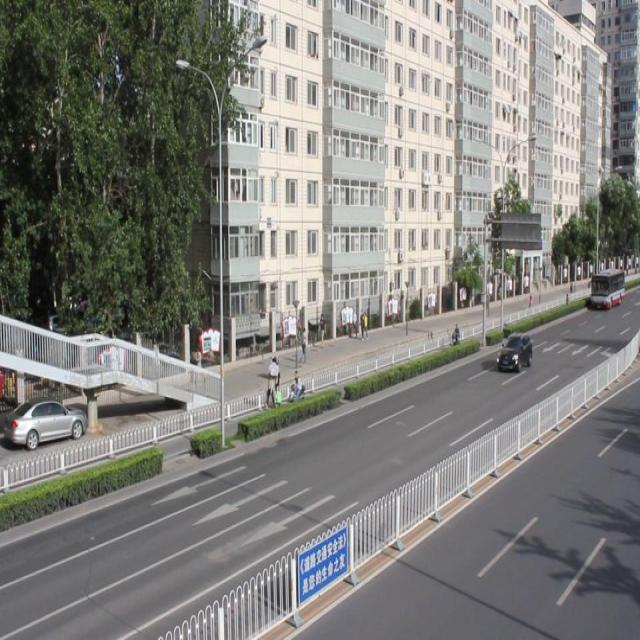car: (496, 328, 532, 372)
